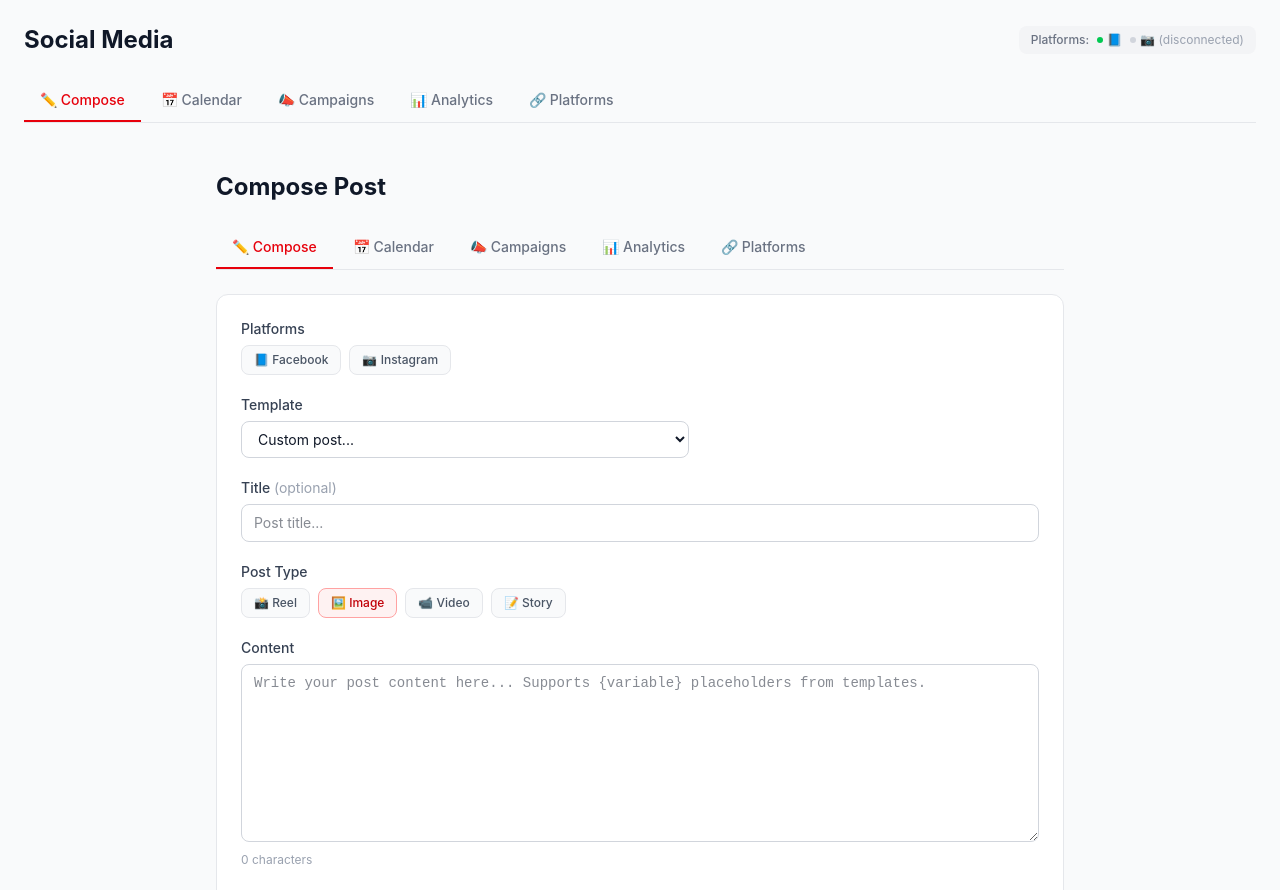
it: SocialMedia › Tab Navigation › switches to Calendar tab
Click the 1st tab "📅 Calendar" at (201, 101), box [145,80,258,122]
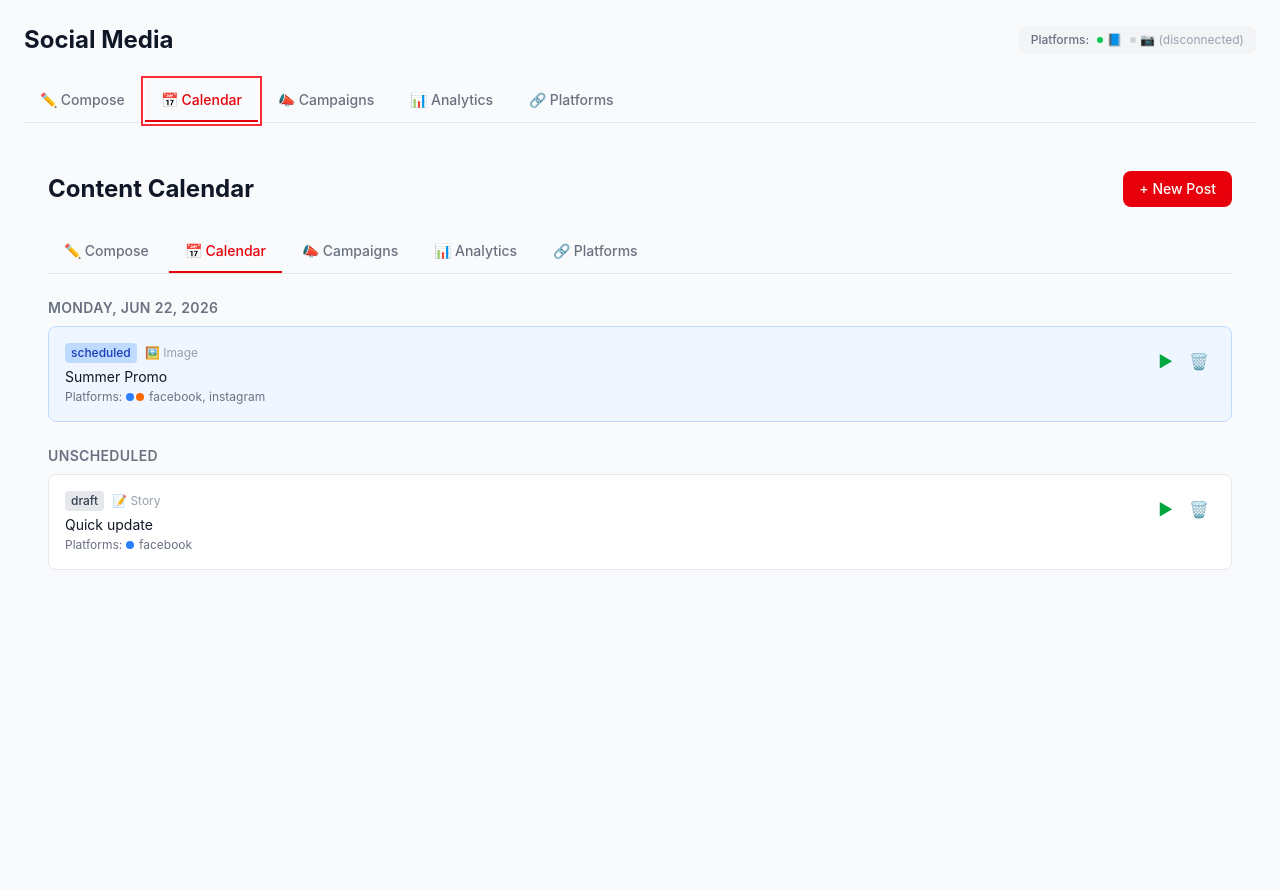
Expected: the heading "Content Calendar" is shown, [48,173,254,205]
